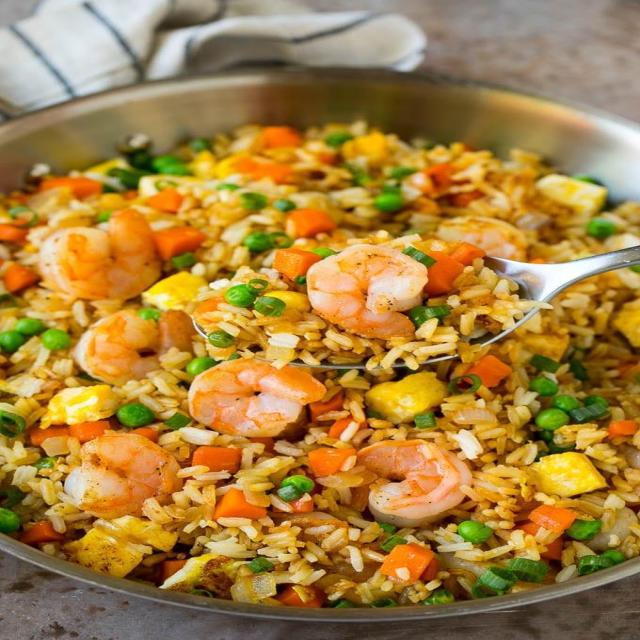Nasi Goreng: (2, 119, 638, 608)
